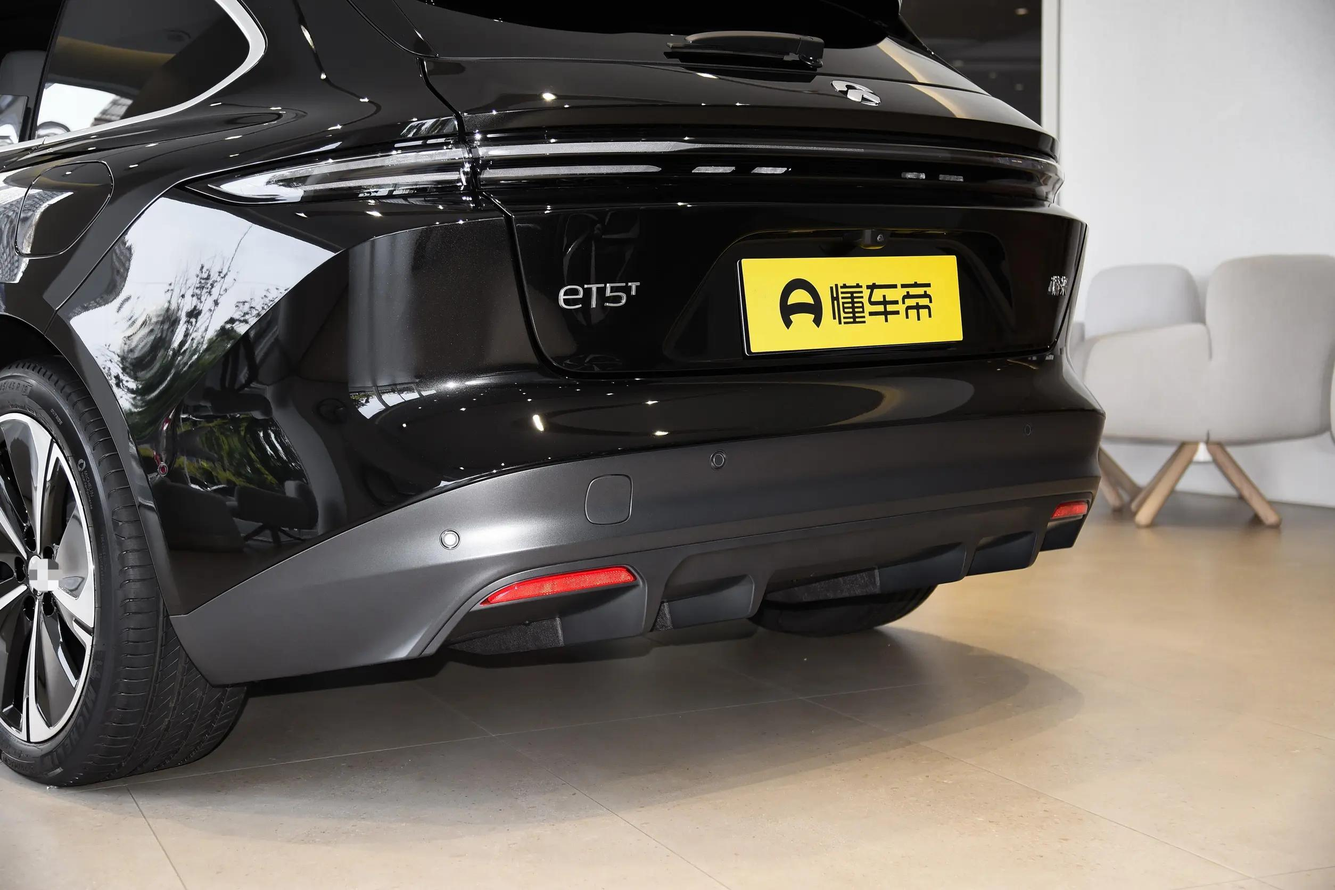NIO: (831, 79, 880, 104)
